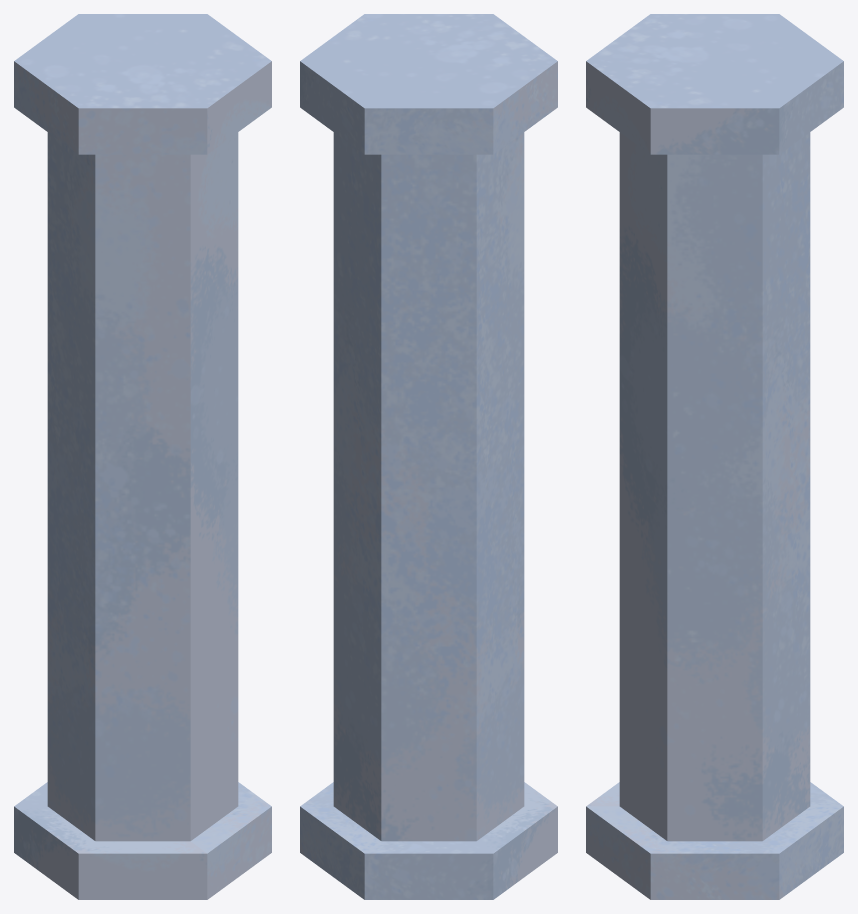
File: SM_museumPillar2.fbx
3 views of the same model, side by side, from view 1: azimuth 30°, elevation 25°; view 2: azimuth 150°, elevation 25°; view 3: azimuth 270°, elevation 25° (orthographic).
Visible parts, largest first — view 1: pillar2; view 2: pillar2; view 3: pillar2.
Boxes of the visible parts, x1,y1,x2,y2 form: pillar2: [14, 14, 271, 899]; pillar2: [300, 14, 557, 899]; pillar2: [586, 14, 843, 899].
Bounding box in the file's own units: 12.49 × 48.87 × 14.42.
1 material, 1 textured.
